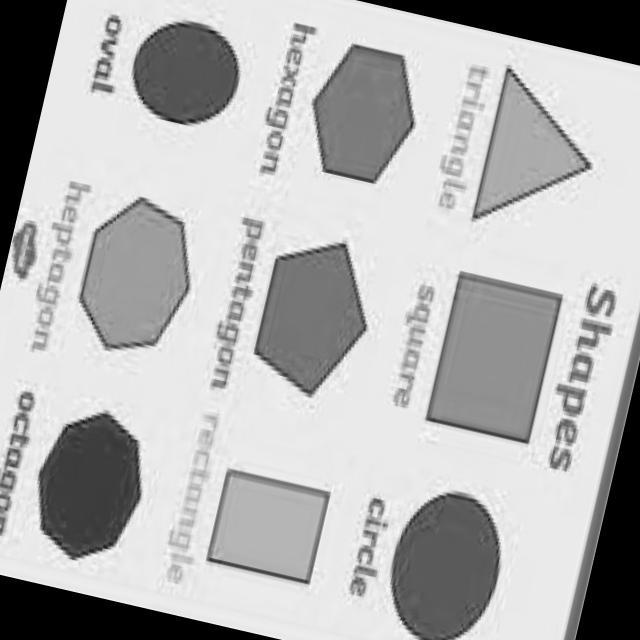circle: (368, 460, 529, 640), (108, 8, 254, 138)
square: (408, 248, 573, 473), (196, 450, 356, 620)
triangle: (456, 48, 607, 242)
